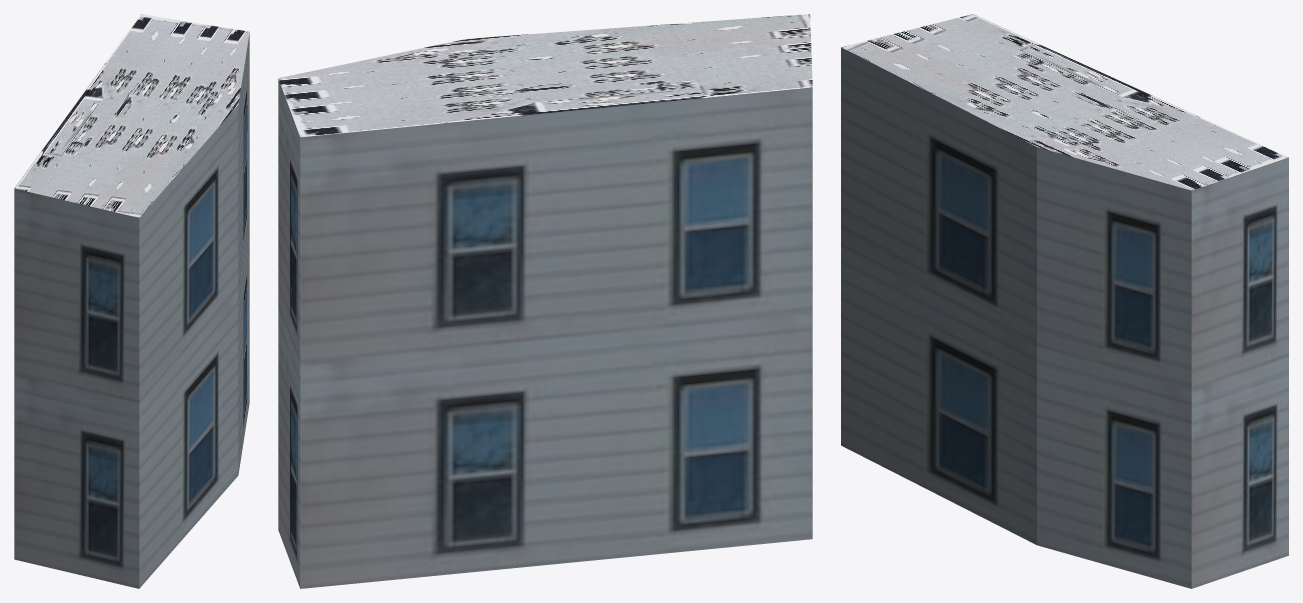
Rendered from ResTex__2484.fbx.
3 views of the same model, side by side, from view 1: azimuth 30°, elevation 25°; view 2: azimuth 150°, elevation 25°; view 3: azimuth 270°, elevation 25° (orthographic). The views are drawn at different scales.
Visible parts, largest first — view 1: CityEngineMaterial_18_m, CityEngineMaterial_8_m; view 2: CityEngineMaterial_18_m, CityEngineMaterial_8_m; view 3: CityEngineMaterial_18_m, CityEngineMaterial_8_m.
Boxes of the visible parts, x1,y1,x2,y2 form: CityEngineMaterial_18_m: (14,33,249,588); CityEngineMaterial_8_m: (14,14,249,217); CityEngineMaterial_18_m: (278,79,812,588); CityEngineMaterial_8_m: (278,14,812,137); CityEngineMaterial_18_m: (841,47,1288,588); CityEngineMaterial_8_m: (841,14,1288,190).
Size of the model in its own units: 5.71 by 6 by 6.11.
2 materials, 2 textured.
